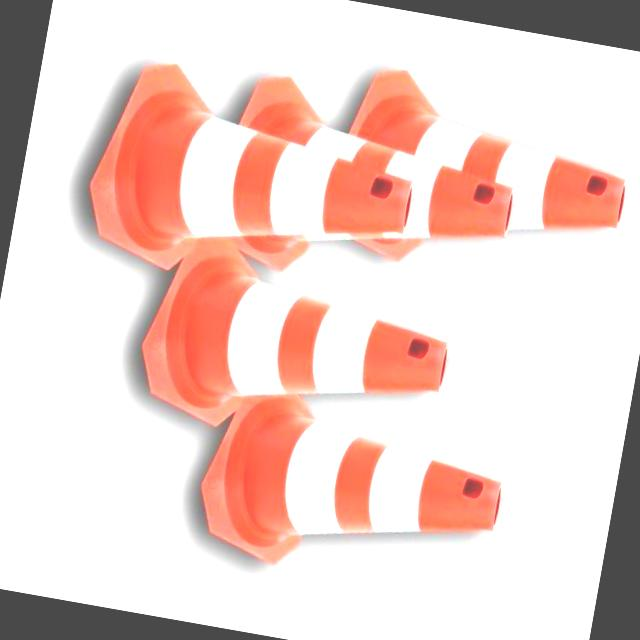cone: (169, 367, 536, 640), (86, 64, 438, 317), (140, 239, 482, 450)
